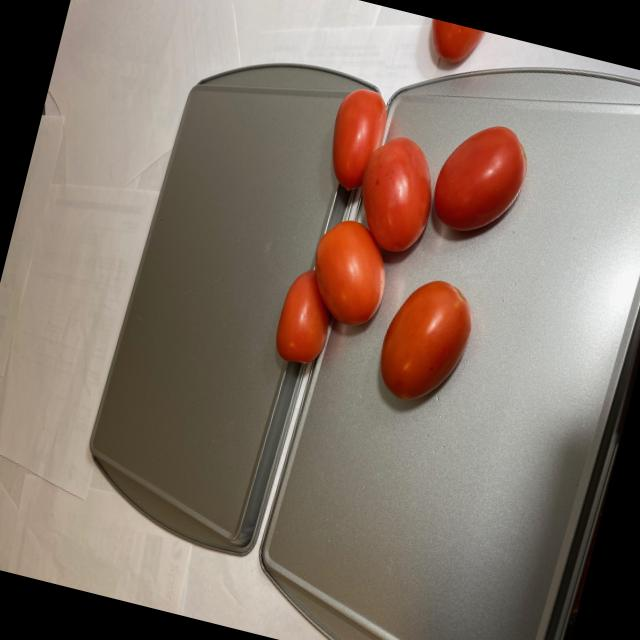tomato: (267, 1, 554, 424)
